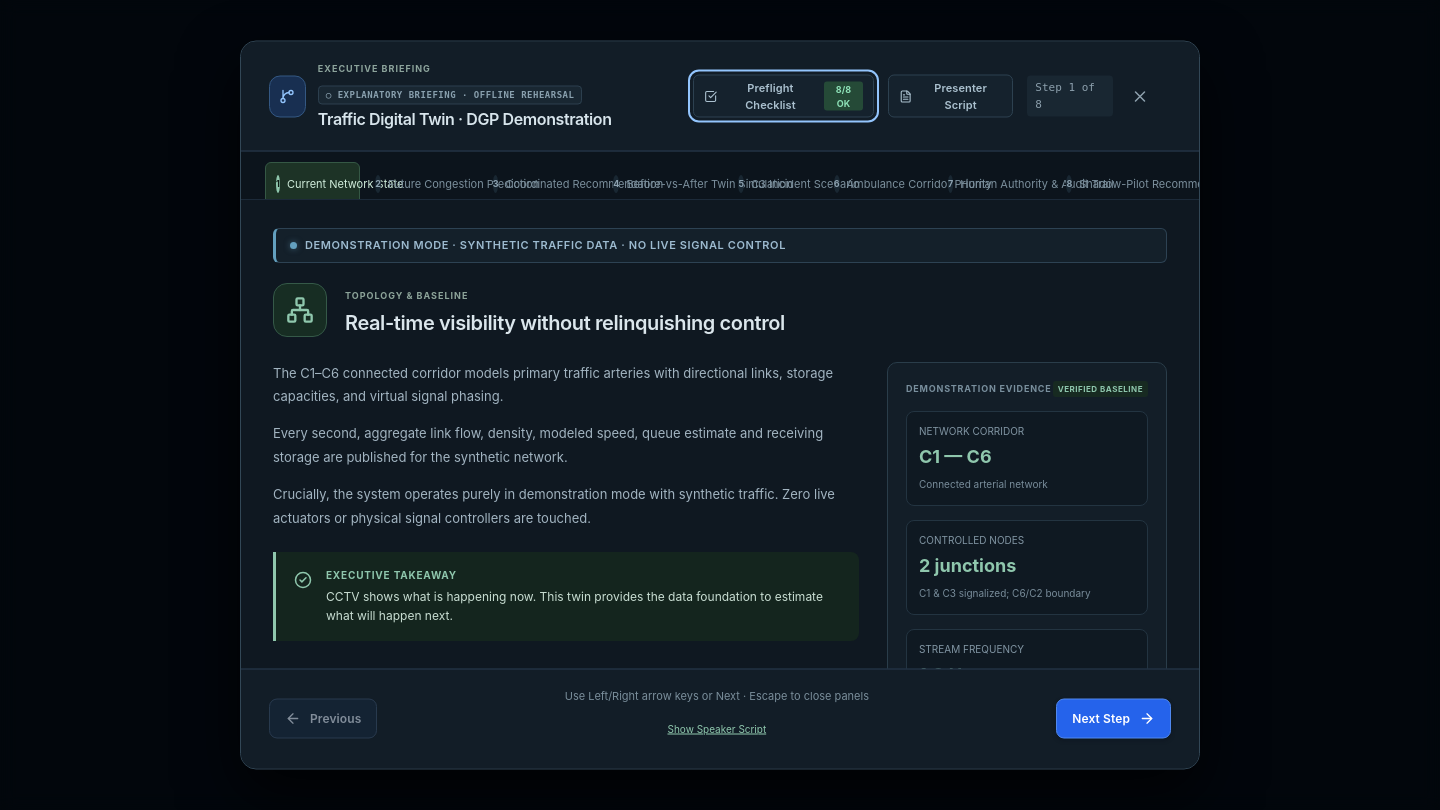
Test: Epic 3 S08: Product Shell & Disclosure › renders and navigates 8-step DGP demonstration modal
Expected: the text "Step 1 of 8" is shown, [1027,76,1113,116]
Expected: the text "Current Network State" is shown, [287,175,403,192]
# Click next step
Click the button "Next Step" at coordinates (1114, 719), box [1056,699,1171,739]
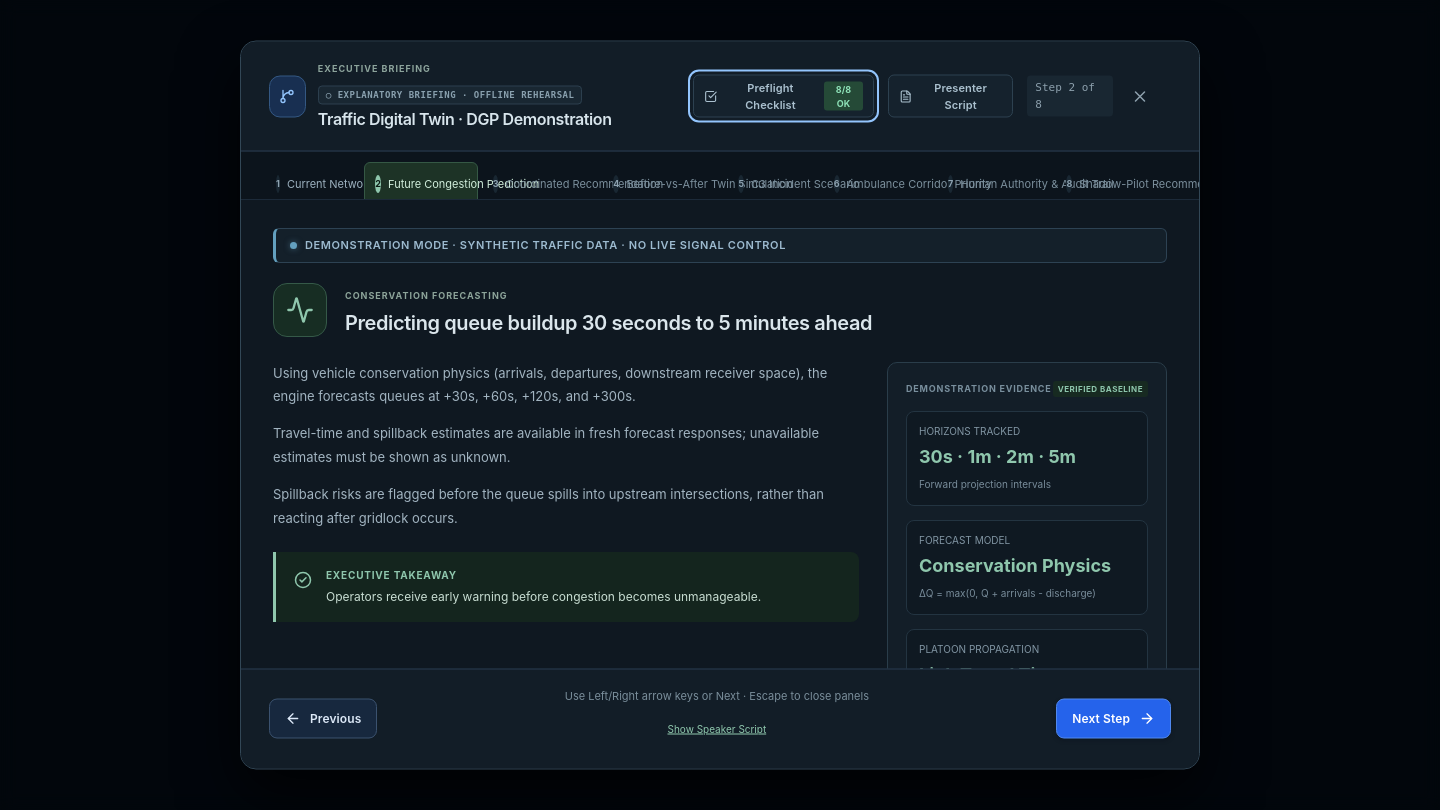
Expected: the text "Future Congestion Prediction" is shown, [388,175,539,192]
Now the text "Step 2 of 8" is shown, box [1027,76,1113,116]
